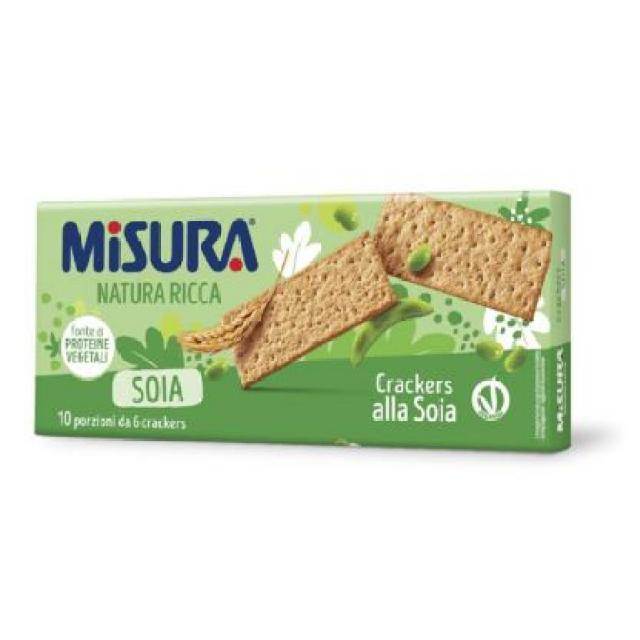Cracker: (33, 192, 578, 458)
